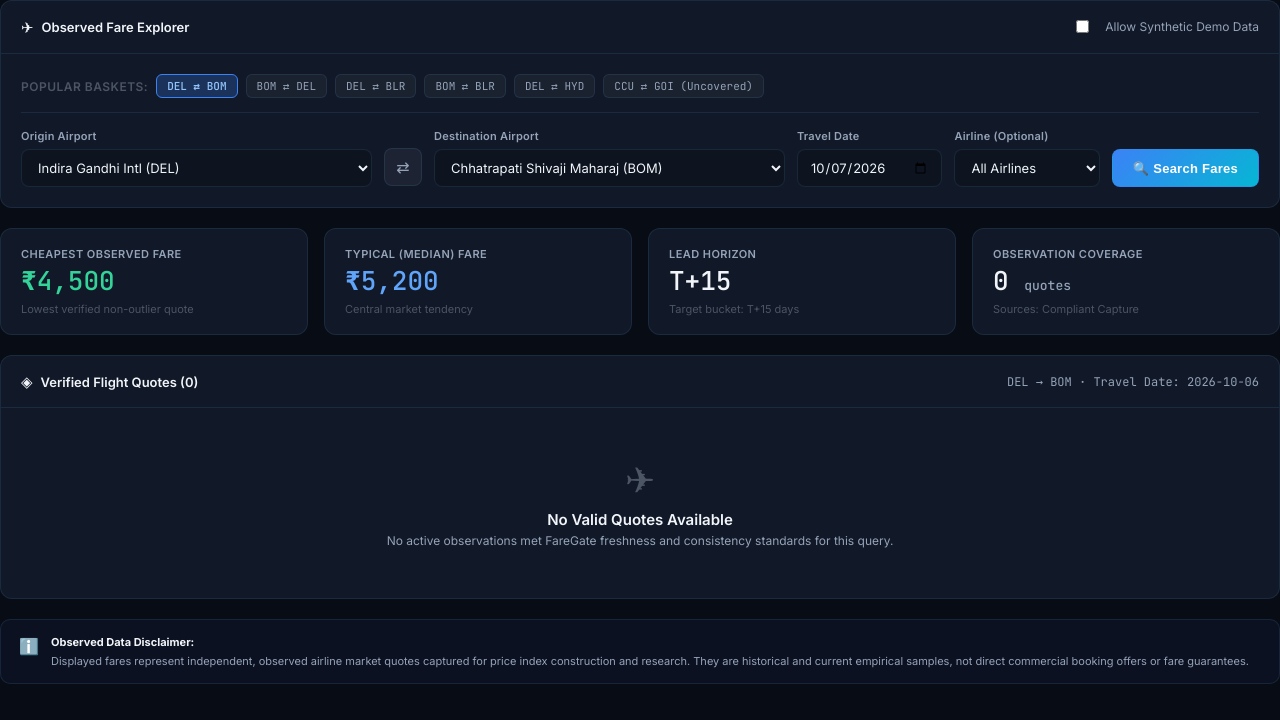
FareExplorer Component › shows validation error when origin and destination are the same
Select "Indira Gandhi Intl (DEL)" in the dropdown labelled "Destination Airport" at (610, 168), box [434, 149, 785, 187]
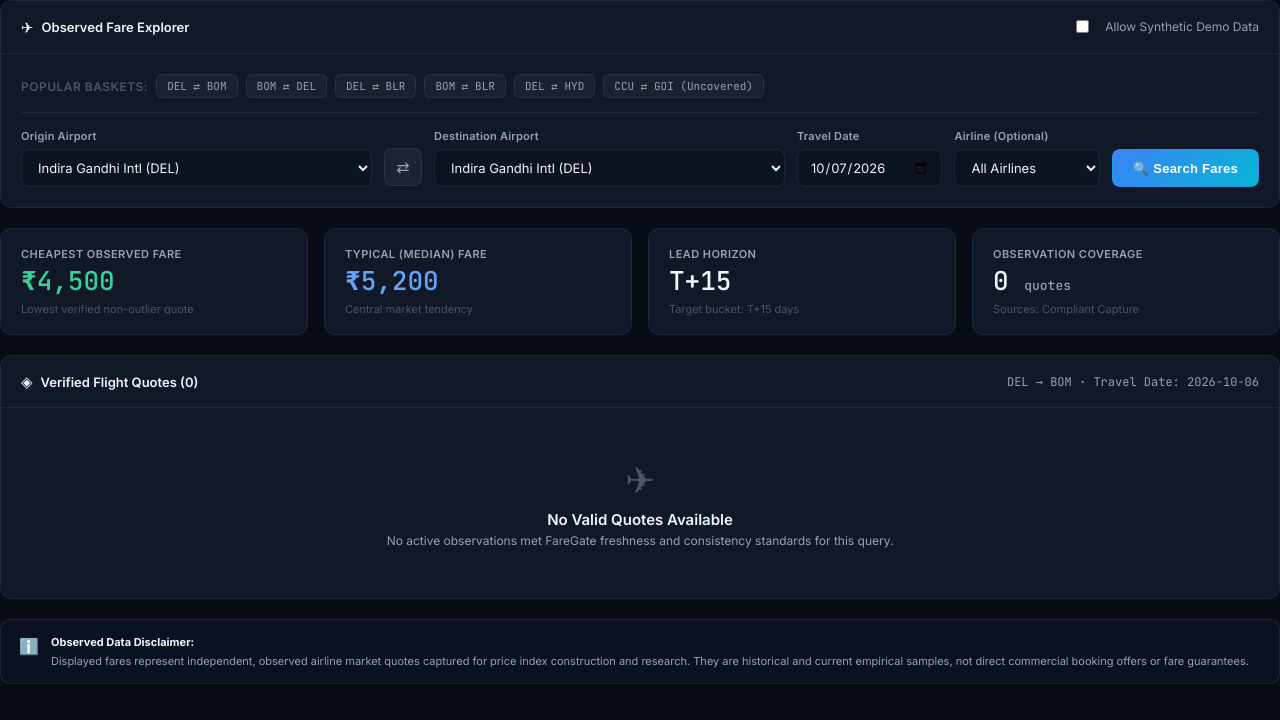
Click the button "🔍 Search Fares" at (1185, 168), box [1112, 149, 1259, 187]
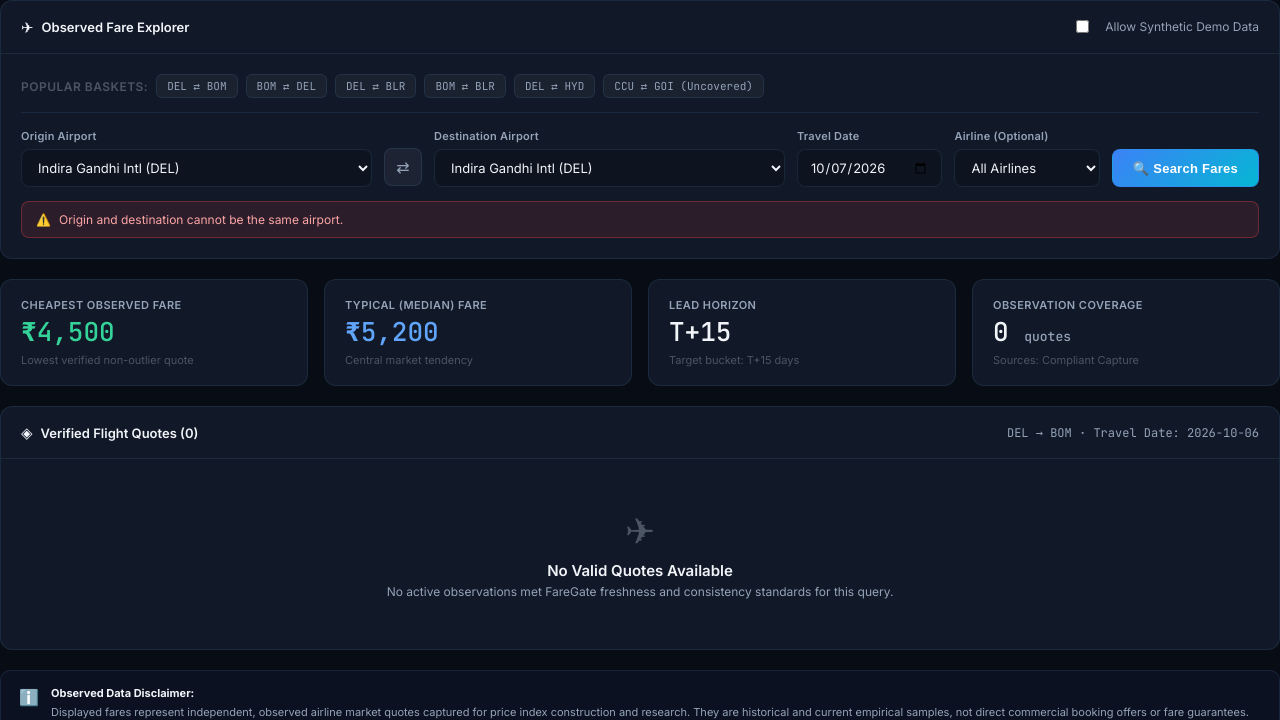
Expected: the text "⚠️ Origin and destination cannot be the same airport." is shown, [21, 201, 1259, 238]
